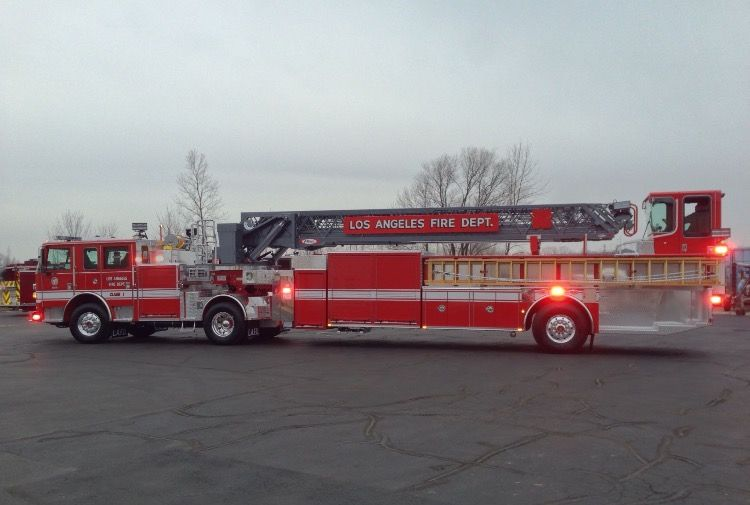special: (29, 190, 738, 358)
